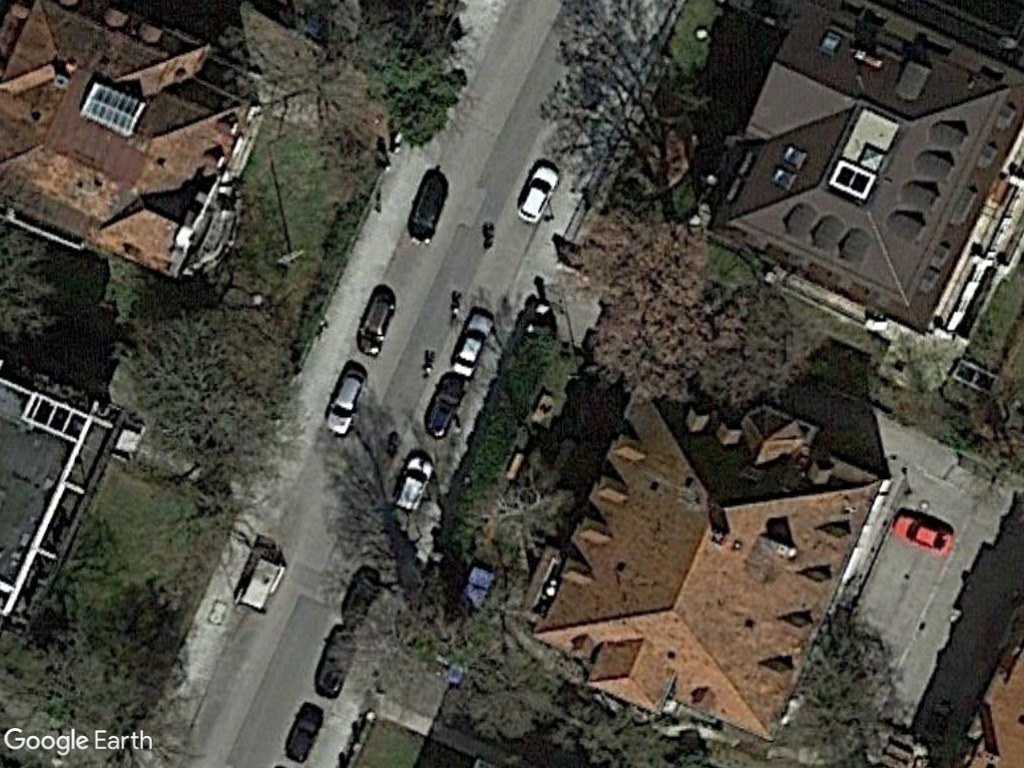car: (320, 367, 370, 441), (889, 506, 957, 560), (446, 307, 495, 379), (513, 161, 561, 227), (390, 452, 434, 518), (355, 291, 398, 358)
